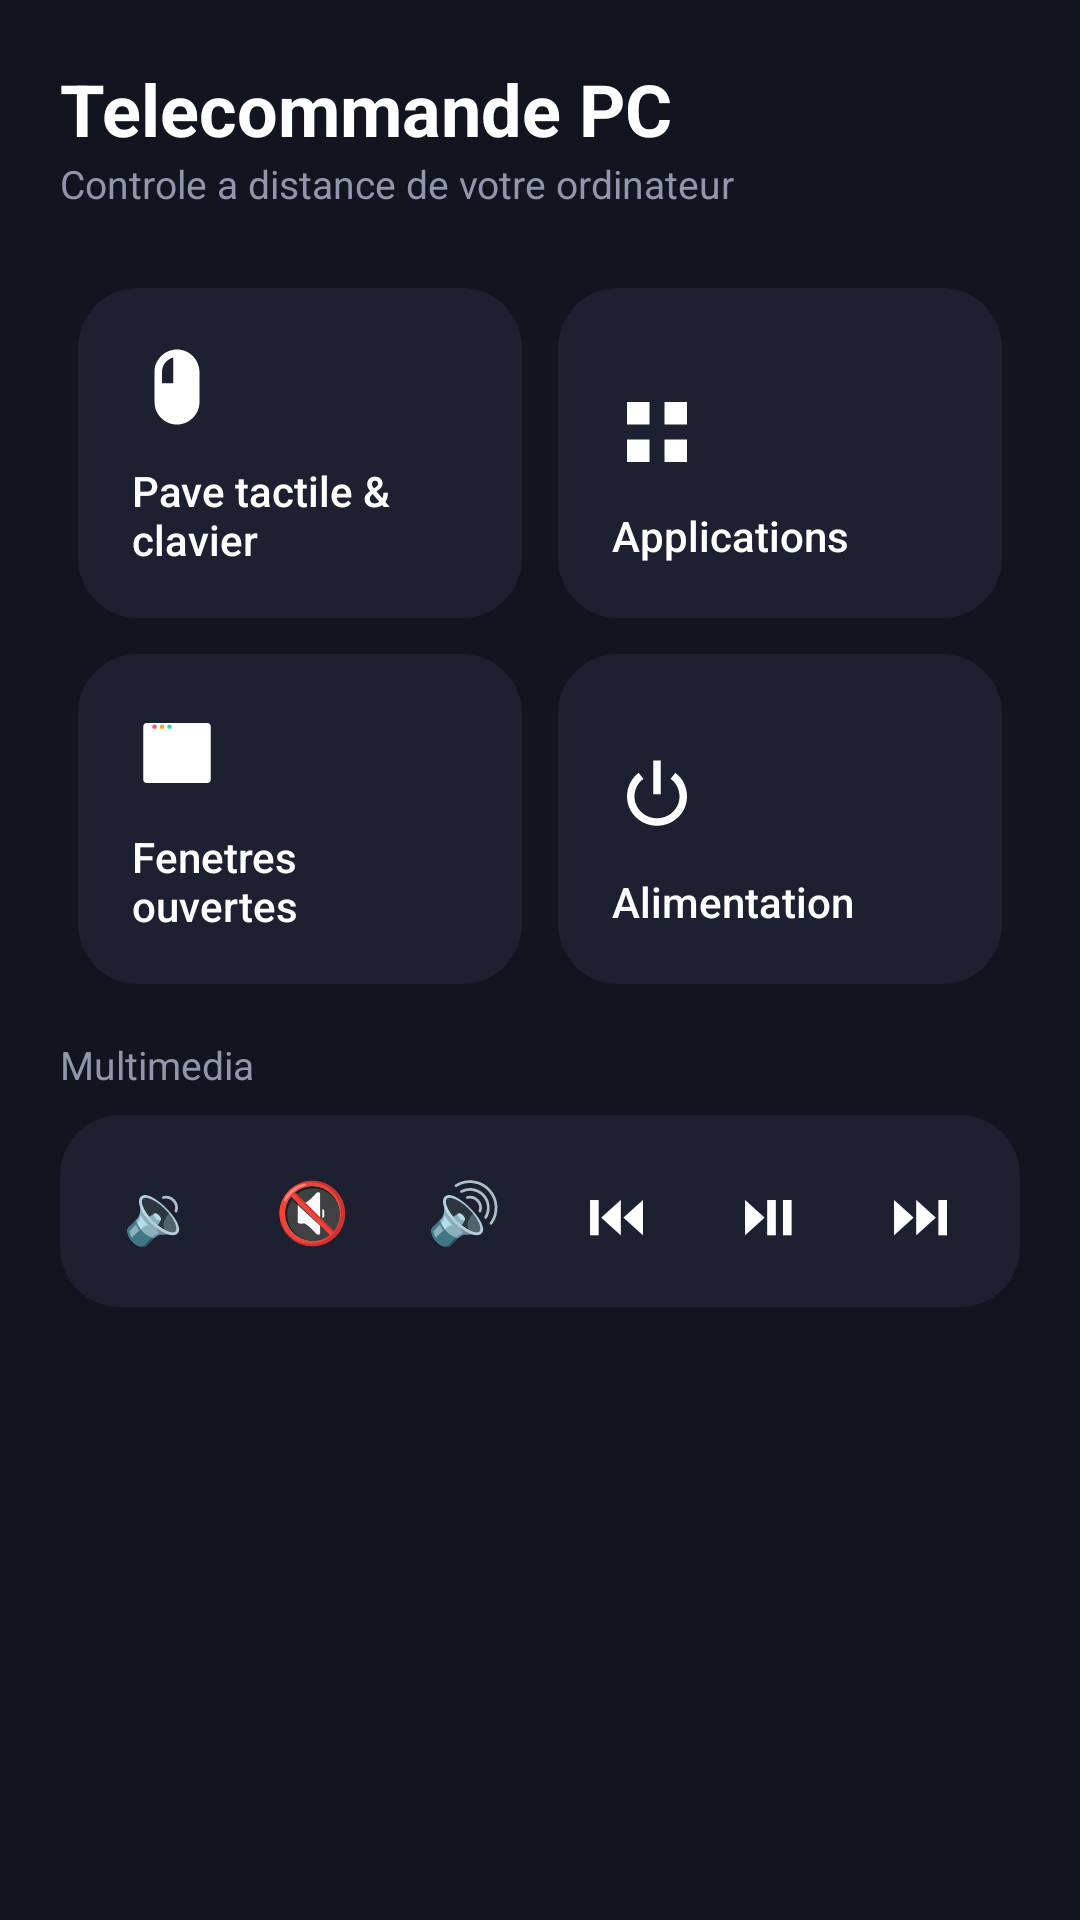

Screen size 1080*1920. Icon name, then its box in pixels as bbox(x1, y1, x2, y2):
apps: bbox(627, 402, 687, 462)
power: bbox(627, 760, 687, 826)
touchpad: bbox(154, 349, 200, 425)
windows: bbox(143, 723, 211, 783)
